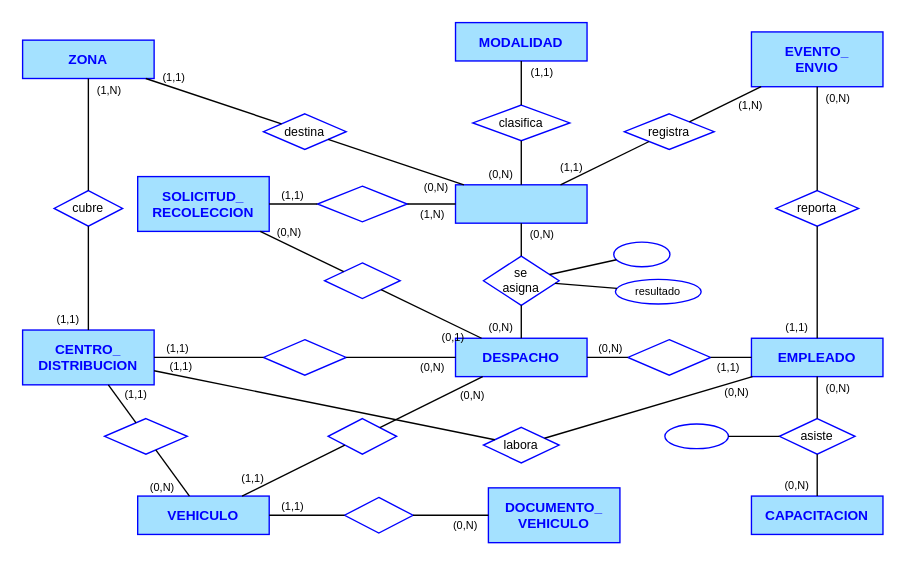
This 906x566 diagram has some shape labels left out. Each missing label, with the centre of its shape:
"aprobó" goes at point (695, 436).
"contiene" goes at point (361, 203).
"dispone" goes at point (145, 435).
"ENVIO" goes at point (520, 203).
"orden" goes at point (641, 254).
"origina" goes at point (304, 356).
"porta" goes at point (378, 514).
"realiza" goes at point (669, 356).
"recoge" goes at point (361, 280).
"usa" goes at point (362, 435).
